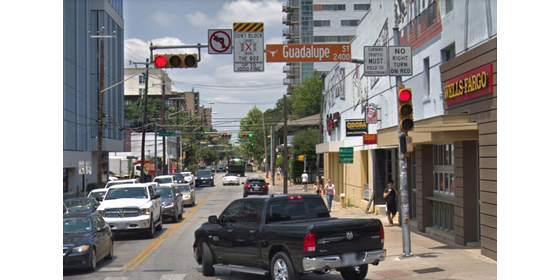dont block the box sign: (233, 22, 265, 74)
no left turn sign: (205, 26, 232, 57)
no right turn on red sign: (389, 46, 413, 79)
turning vehicle yield to ped sign: (363, 45, 387, 77)
